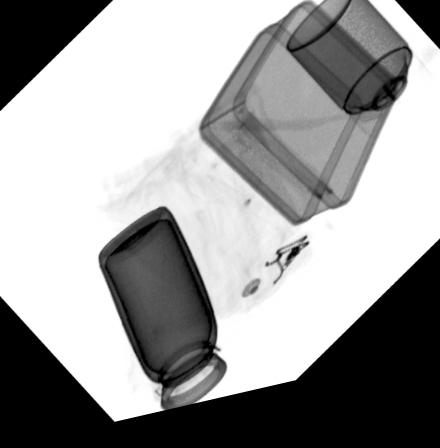Sprayer: (281, 0, 433, 158)
